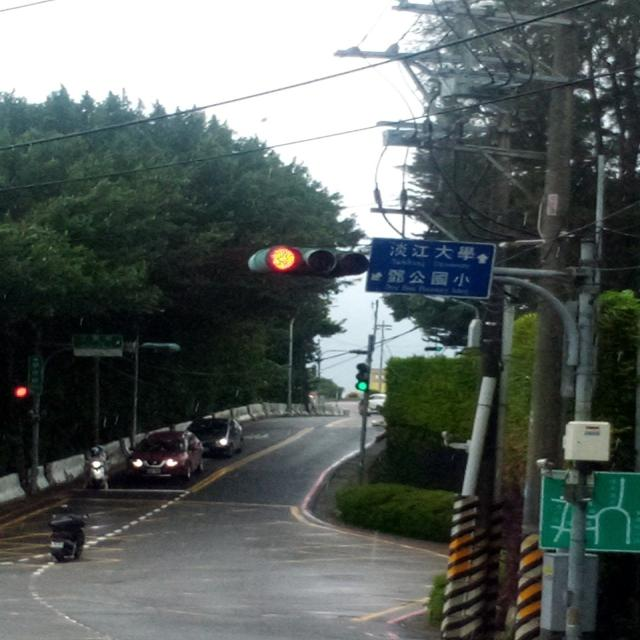red light: (249, 248, 368, 278), (9, 383, 29, 414)
